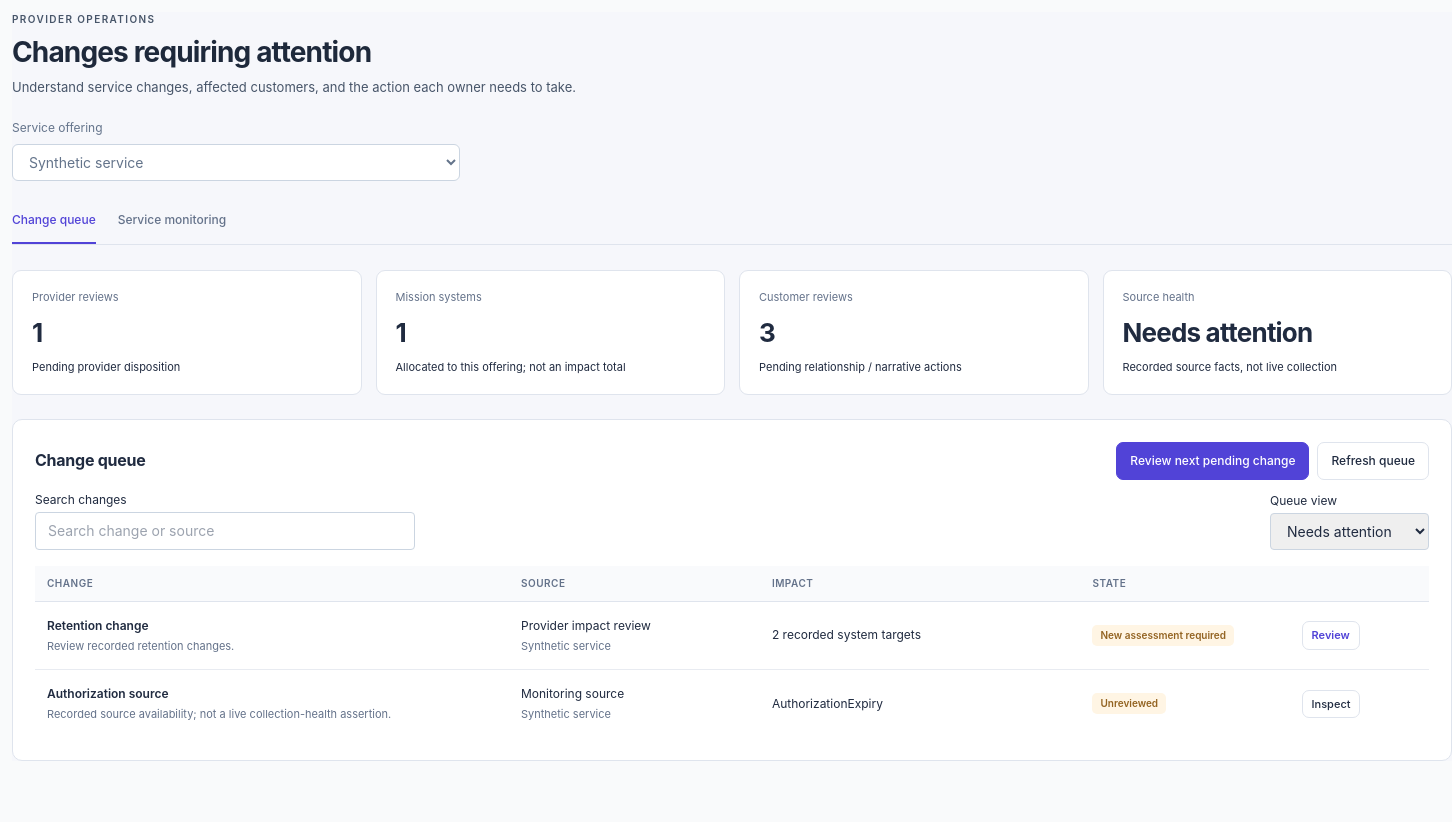
Scenario: shows a real pending queue and separates expired accepted history
Expected: the text "Retention change" is shown, [47,618,149,632]
Expected: the text "Old accepted review" is not shown
Select "Reviewed history" in the dropdown labelled "Queue view" at (1350, 531), box [1270,512,1429,550]
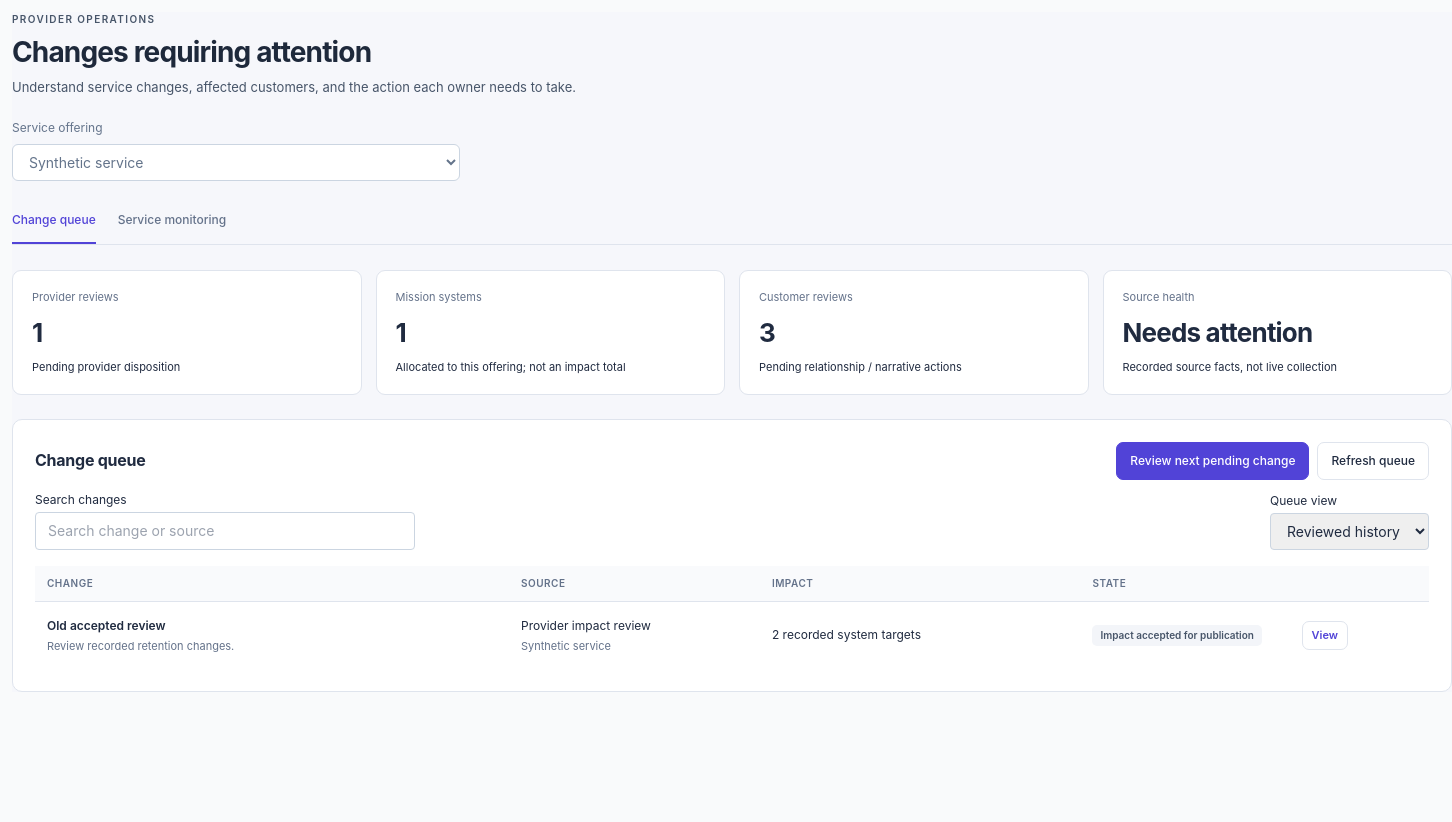
Result: the text "Old accepted review" is shown at [47,618,166,632]
Result: the text "Impact accepted for publication" is shown at [1092,625,1262,646]
